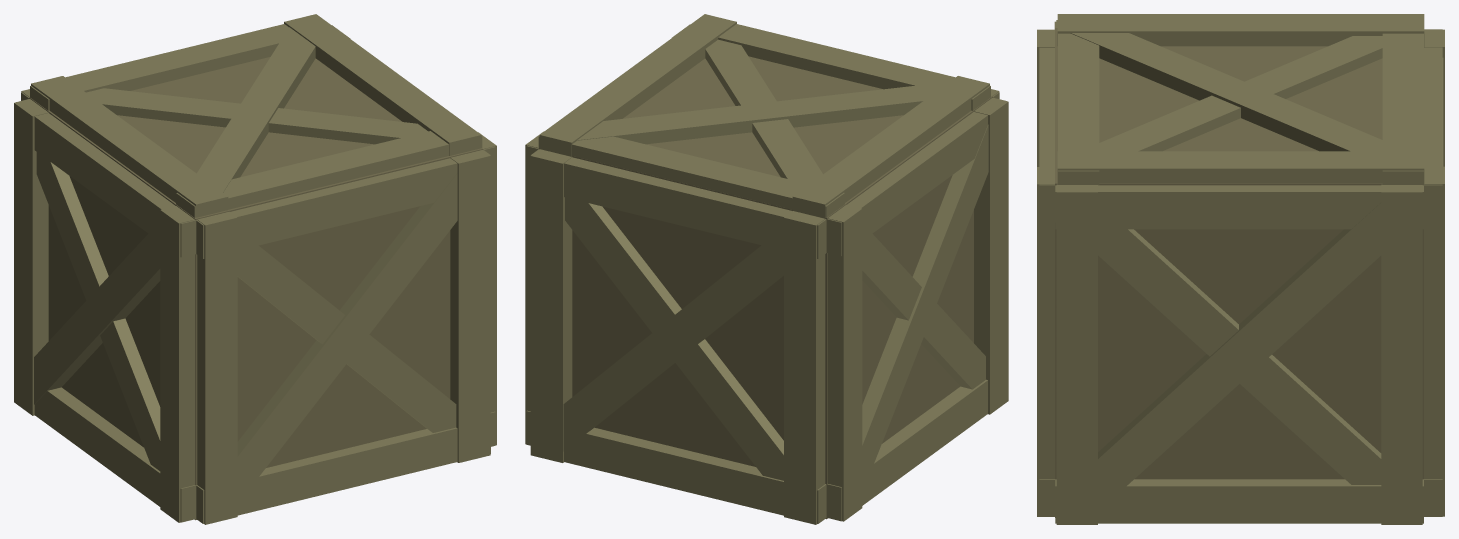
File: crate.glb
The picture shows the model from 3 angles, left to right: view 1: azimuth 30°, elevation 25°; view 2: azimuth 150°, elevation 25°; view 3: azimuth 270°, elevation 25°; orthographic projection. The views are drawn at different scales.
Visible parts, largest first — view 1: Cube.032; view 2: Cube.032; view 3: Cube.032.
Part boxes in pixels (x1,y1,x2,y2): Cube.032: [14, 14, 496, 524]; Cube.032: [525, 14, 1008, 524]; Cube.032: [1037, 14, 1444, 524].
Size of the model in its own units: 2.21 by 2.09 by 2.21.
